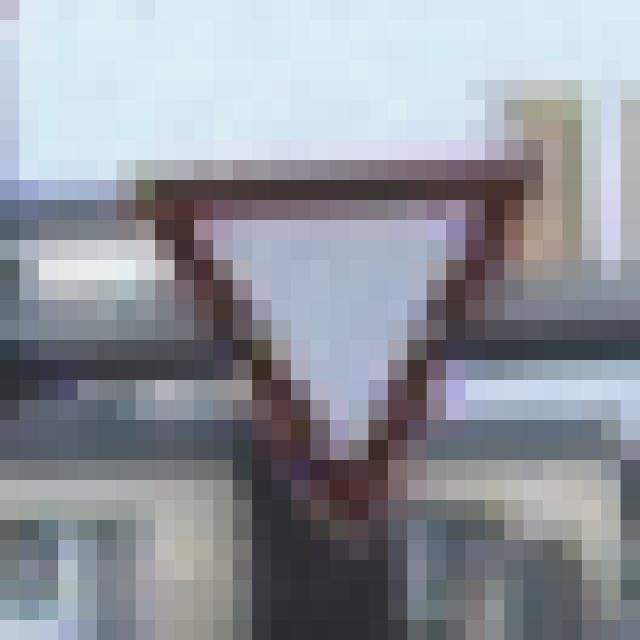Give Way: (117, 121, 544, 541)
